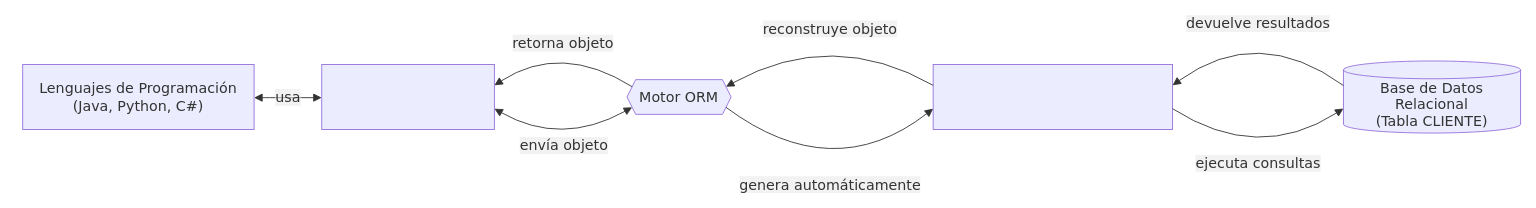
The diagram is 1536 pixels wide and 208 high, and some of its shapes have lost their labels. The shapes that lost their labels are listed below. From the top down, each one's centre as x and y in pixels, then its label:
At point 407,96: "Modelo de Objetos (Clase Cliente)".
At point 1052,96: "Generación de Código SQL (INSERT, SELECT, UPDATE)".
